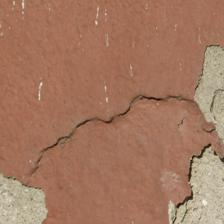Crack: (40, 66, 152, 158), (28, 33, 194, 86), (0, 52, 71, 128)
